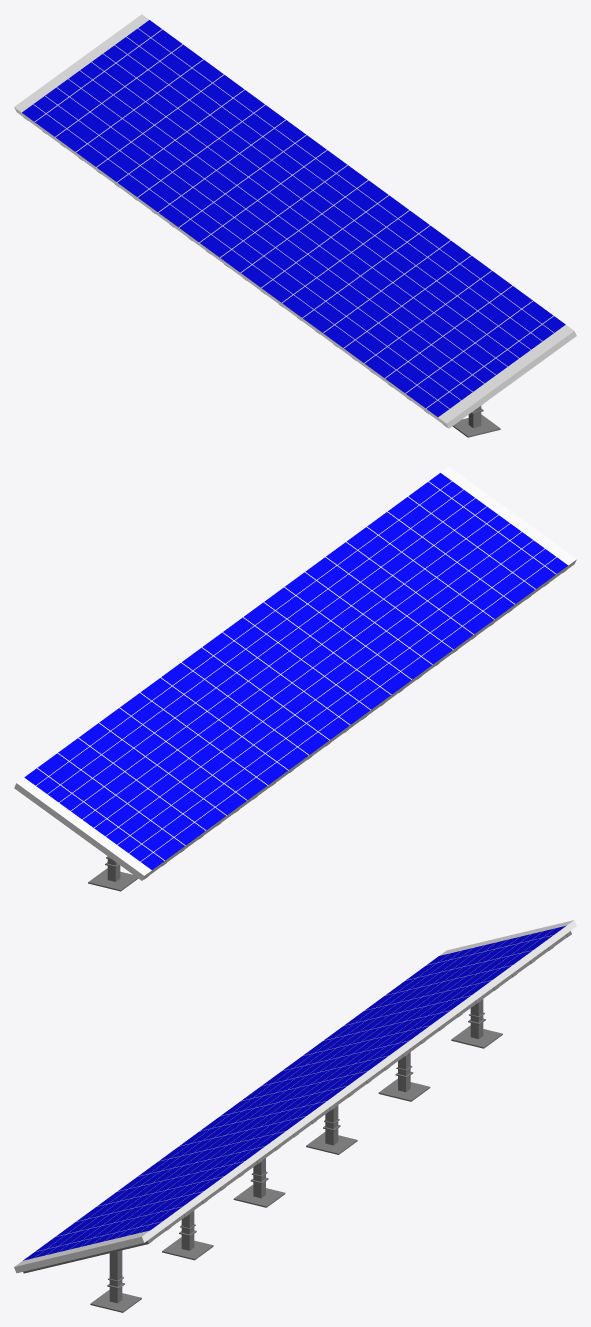
The model's file is solar panel.fbx.
3 views of the same model, one above another, from view 1: azimuth 30°, elevation 25°; view 2: azimuth 150°, elevation 25°; view 3: azimuth 330°, elevation 25° (orthographic).
Visible parts, largest first — view 1: pCube47; view 2: pCube47; view 3: pCube47.
Part boxes in pixels (x1,y1,x2,y2): pCube47: [14, 14, 576, 437]; pCube47: [14, 466, 576, 891]; pCube47: [14, 920, 576, 1312].
Size of the model in its own units: 16.16 by 12.76 by 92.91.
